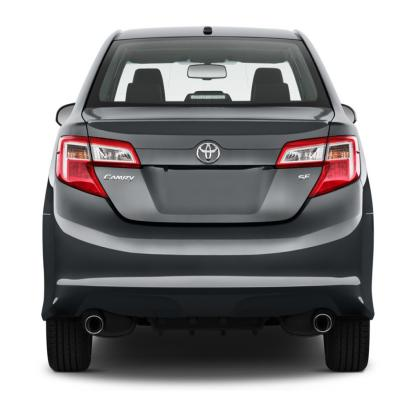car: (39, 21, 376, 379)
